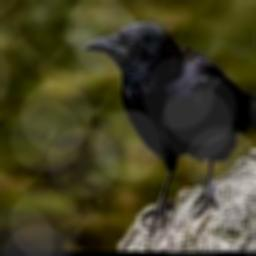Crow: (81, 23, 256, 231)
